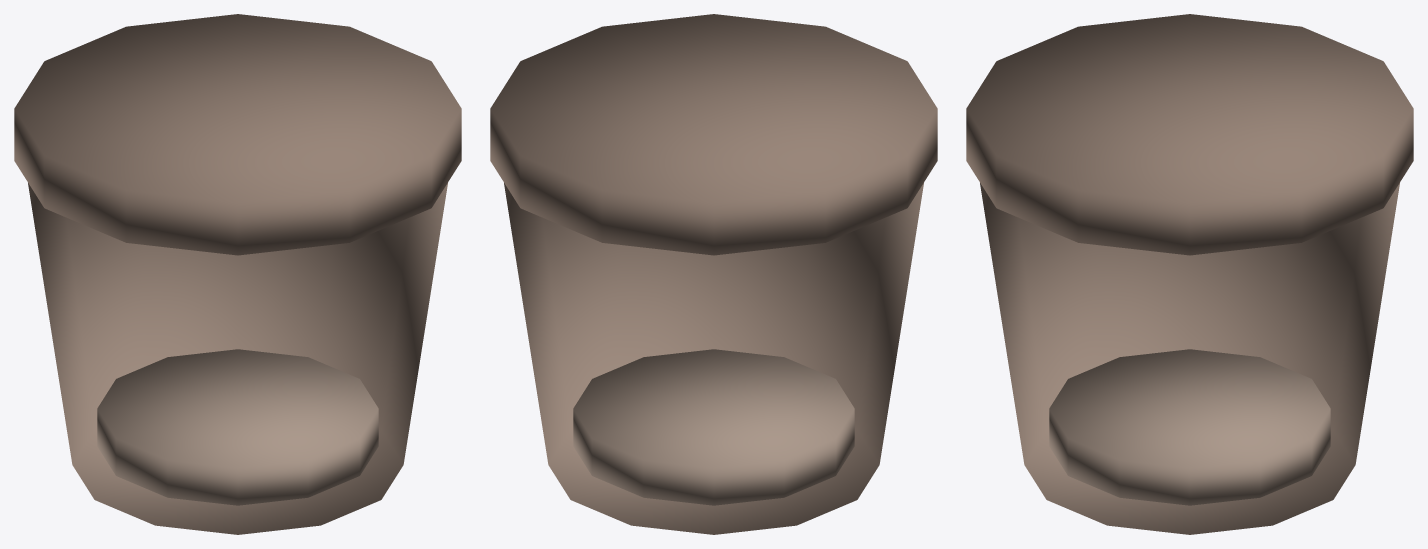
File: pot.glb
3 renders of one model, left to right at view 1: azimuth 30°, elevation 25°; view 2: azimuth 150°, elevation 25°; view 3: azimuth 270°, elevation 25°, orthographic.
Parts seen in each view (by area): view 1: geometry_0; view 2: geometry_0; view 3: geometry_0.
Boxes of the visible parts, left/top/right/bottom form: geometry_0: left=14, top=14, right=461, bottom=534; geometry_0: left=490, top=14, right=937, bottom=534; geometry_0: left=966, top=14, right=1413, bottom=534.
Size of the model in its own units: 0.54 by 0.475 by 0.54.
